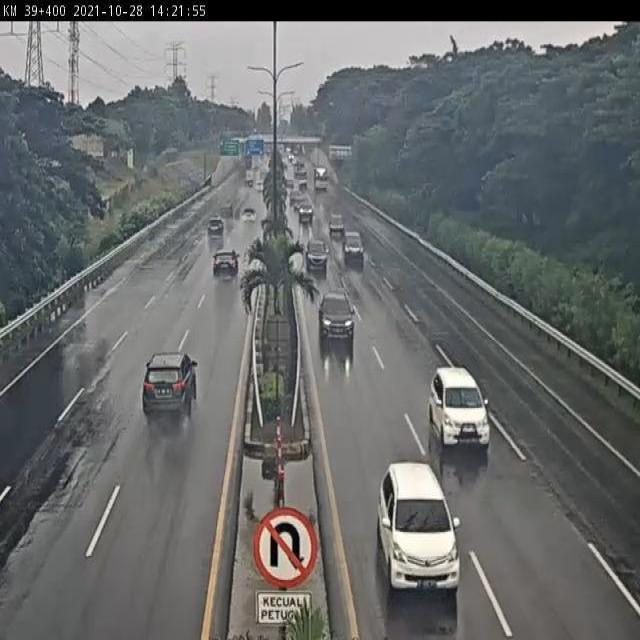car: (375, 464, 462, 593), (429, 366, 489, 446), (142, 351, 194, 413), (319, 289, 356, 344), (304, 236, 330, 271), (340, 228, 364, 263), (212, 248, 239, 279), (326, 211, 346, 237), (206, 214, 226, 238), (298, 200, 315, 227), (240, 204, 258, 227)
